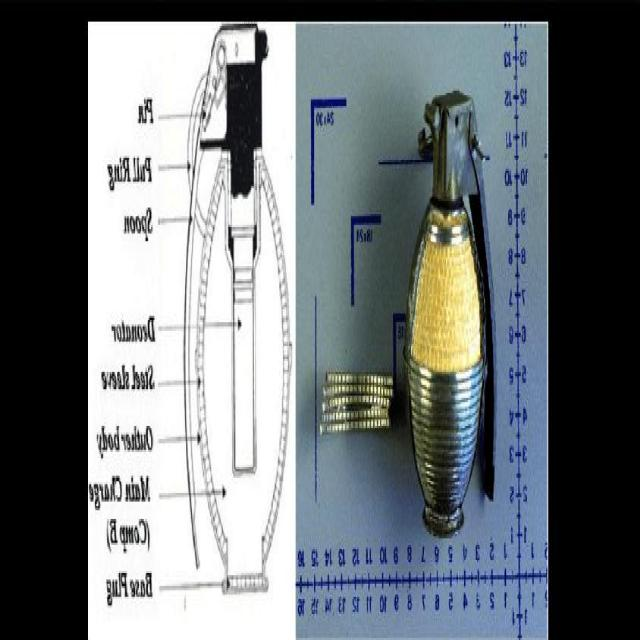grenade: (404, 90, 497, 542)
